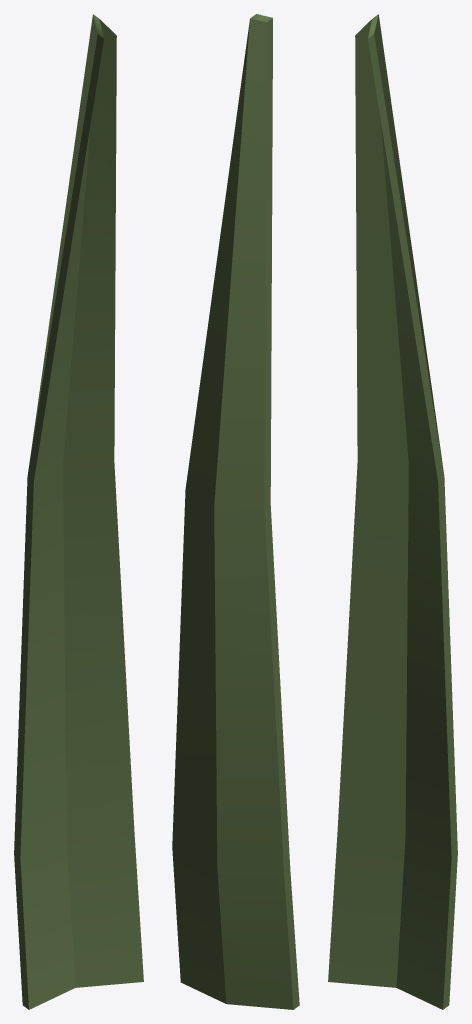
The model's file is SM_Grass_Blade_03.fbx.
3 views of the same model, side by side, from view 1: azimuth 30°, elevation 25°; view 2: azimuth 150°, elevation 25°; view 3: azimuth 330°, elevation 25° (orthographic).
Visible parts, largest first — view 1: SM_Grass_Blade_03; view 2: SM_Grass_Blade_03; view 3: SM_Grass_Blade_03.
Boxes of the visible parts, box(x1,y1,x2,y2) form: SM_Grass_Blade_03: box(14, 14, 143, 1009); SM_Grass_Blade_03: box(172, 14, 299, 1009); SM_Grass_Blade_03: box(328, 14, 457, 1009).
Bounding box in the file's own units: 18.21 × 149 × 14.75.
